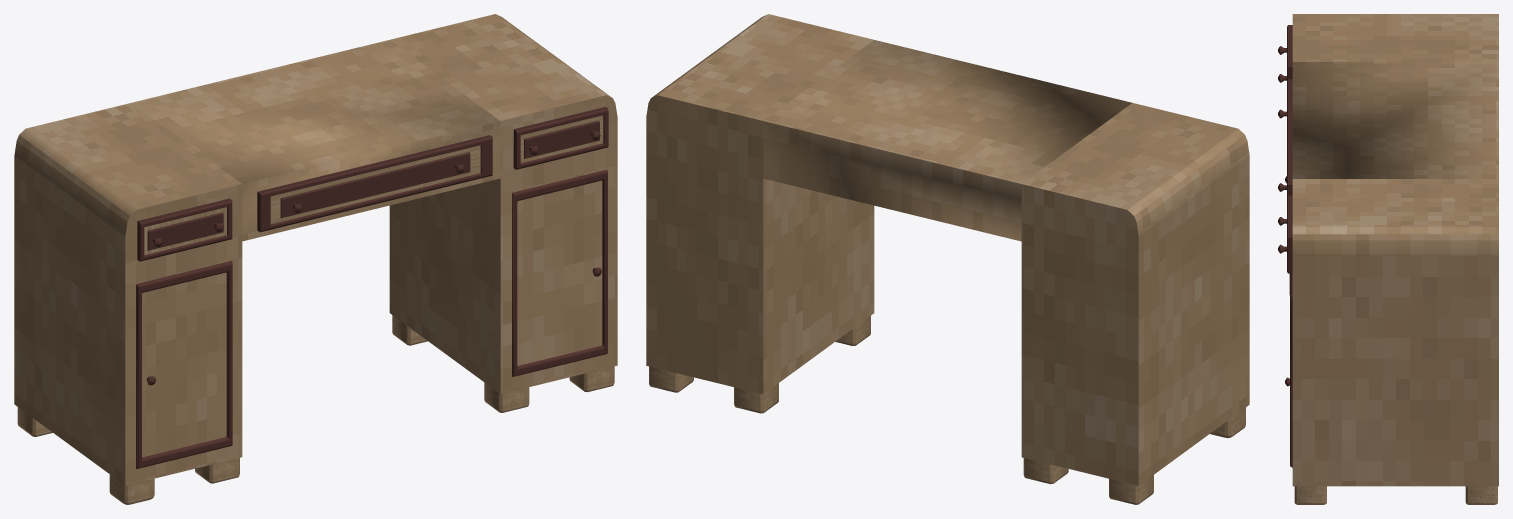
The model's file is biurko.fbx.
3 renders of one model, left to right at view 1: azimuth 30°, elevation 25°; view 2: azimuth 150°, elevation 25°; view 3: azimuth 270°, elevation 25°, orthographic. The views are drawn at different scales.
Visible parts, largest first — view 1: Plane.065, Plane.064, Cube.025, Cube.024, Plane.066, Plane.067, Cube.026, Cube.033, Cube.010, Cube.031; view 2: Plane.065, Cube.012, Cube.030, Cube.023, Cube.021; view 3: Plane.065, Plane.064, Cube.010, Cube.021, Cube.024, Plane.066, Plane.067.
Boxes of the visible parts, x1,y1,x2,y2 form: Plane.065: (14,14,617,485); Plane.064: (257,135,492,232); Cube.025: (136,260,232,468); Cube.024: (512,169,607,376); Plane.066: (513,107,608,169); Plane.067: (137,198,232,261); Cube.026: (109,474,154,504); Cube.033: (484,382,529,412); Cube.010: (569,366,614,392); Cube.031: (195,458,239,483); Plane.065: (646,14,1249,485); Cube.012: (734,383,778,413); Cube.030: (1109,475,1153,504); Cube.023: (1023,458,1068,484); Cube.021: (649,366,693,392); Plane.065: (1292,14,1498,486); Plane.064: (1287,79,1292,196); Cube.010: (1294,486,1326,504); Cube.021: (1465,486,1497,504); Cube.024: (1290,273,1292,467); Plane.066: (1287,195,1292,273); Plane.067: (1287,25,1292,80).
Size of the model in its own units: 143 by 82.06 by 59.77.
